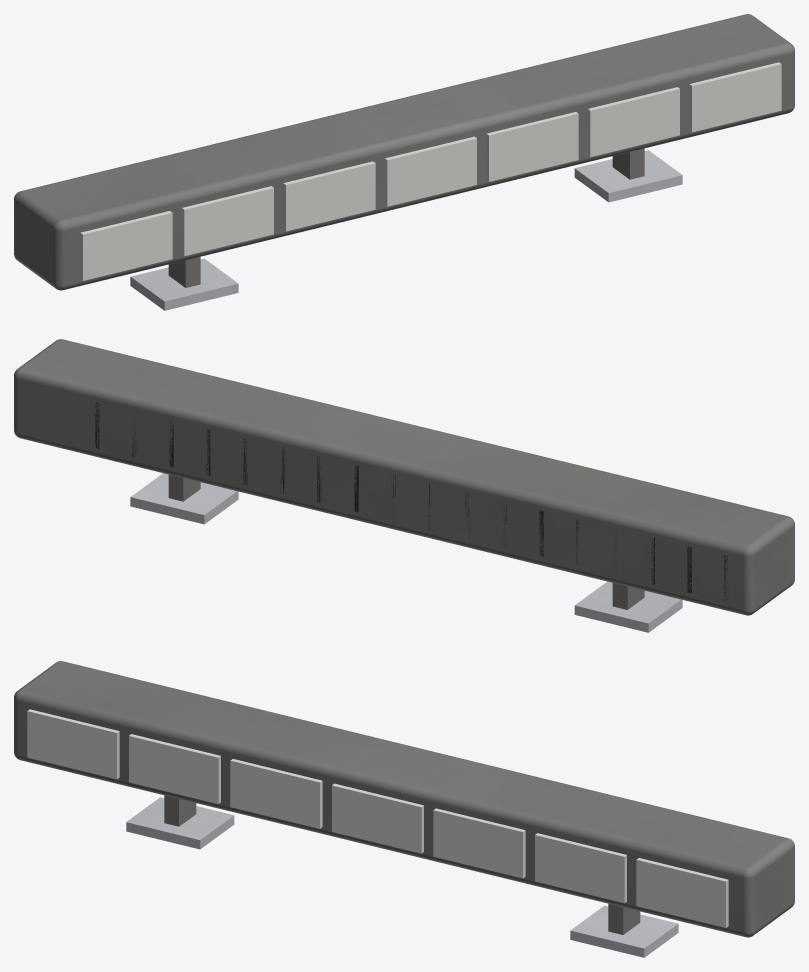
Rendered from rover35_light_bar_s.glb.
3 views of the same model, one above another, from view 1: azimuth 30°, elevation 25°; view 2: azimuth 150°, elevation 25°; view 3: azimuth 330°, elevation 25° (orthographic).
Visible parts, largest first — view 1: housing, lamps, feet, brackets; view 2: housing, feet, heat_fins, brackets; view 3: housing, lamps, feet, brackets.
Boxes of the visible parts, left/top/right/bottom form: housing: left=14, top=14, right=794, bottom=290; lamps: left=80, top=62, right=781, bottom=280; feet: left=130, top=150, right=682, bottom=310; brackets: left=168, top=148, right=644, bottom=287; housing: left=14, top=339, right=794, bottom=615; feet: left=130, top=473, right=682, bottom=632; heat_fins: left=95, top=402, right=728, bottom=600; brackets: left=168, top=474, right=644, bottom=609; housing: left=14, top=661, right=794, bottom=937; lamps: left=27, top=709, right=728, bottom=927; feet: left=126, top=797, right=678, bottom=957; brackets: left=164, top=795, right=640, bottom=934.
Bounding box in the file's own units: 1 × 0.15 × 0.12.
Materials: 4 (2 with a texture image).
